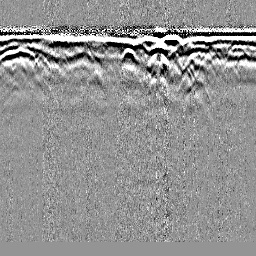cavity: (119, 46, 139, 62)
